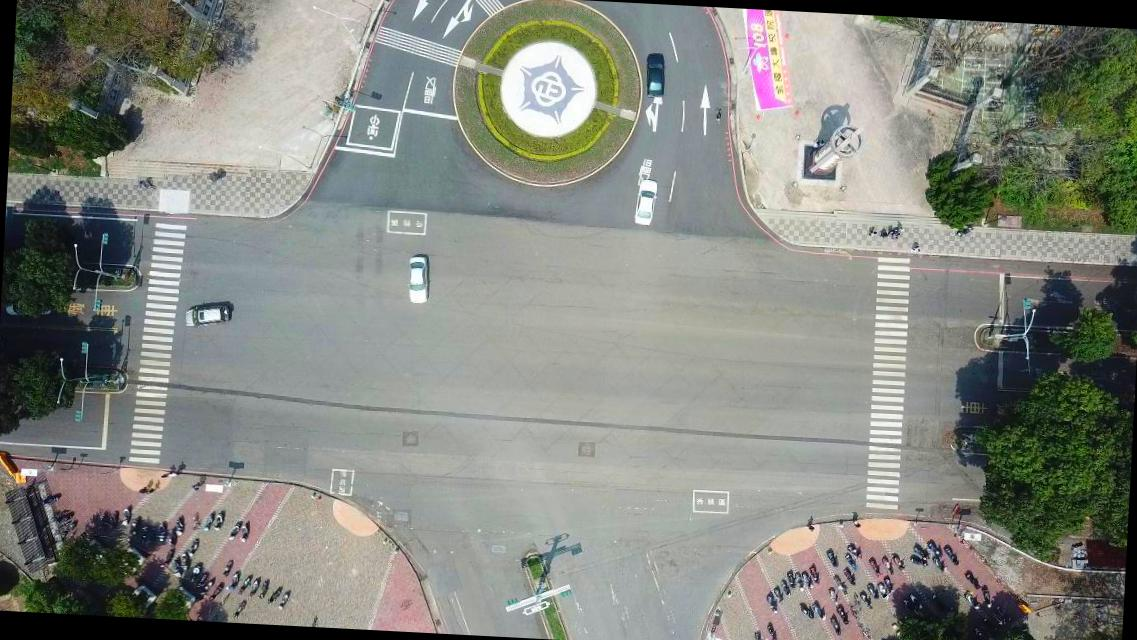vehicle: (182, 300, 232, 328), (406, 253, 430, 306), (632, 176, 657, 226), (645, 52, 665, 98)
